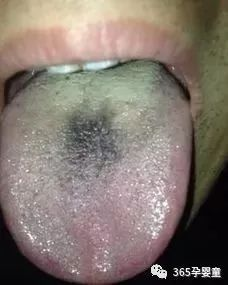heitaishe: (1, 74, 192, 283)
huangtaishe: (1, 74, 192, 283)
